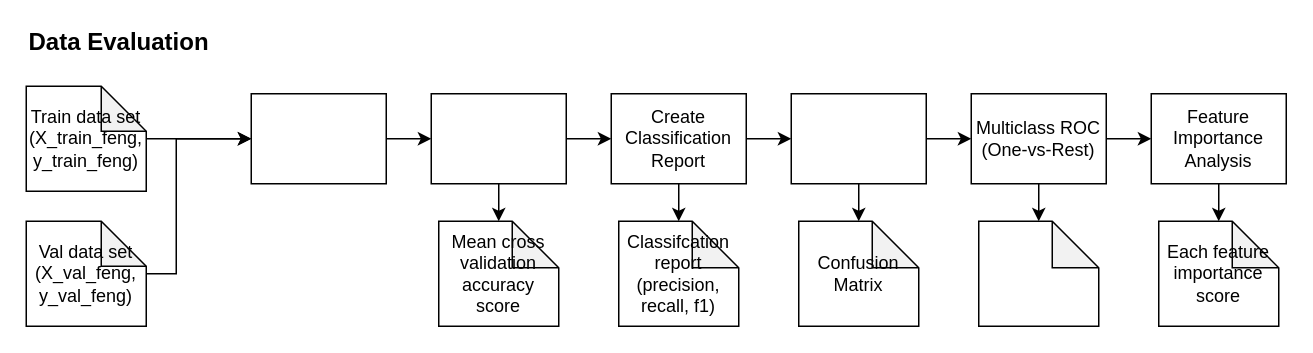
This 1313x353 diagram has some shape labels left out. Each missing label, with the box of its shape:
Generate Confusion Matrix: (790, 92, 926, 184)
k-Fold CV Scoring (n_split=5): (430, 92, 566, 184)
Load model and test data pickles: (250, 92, 386, 184)
Multiclass ROC Curve: (977, 220, 1099, 326)
